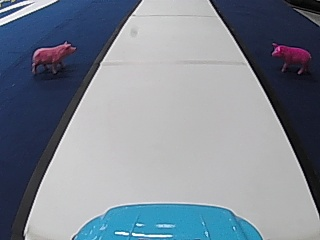pig: (29, 38, 75, 75), (268, 39, 312, 73)
